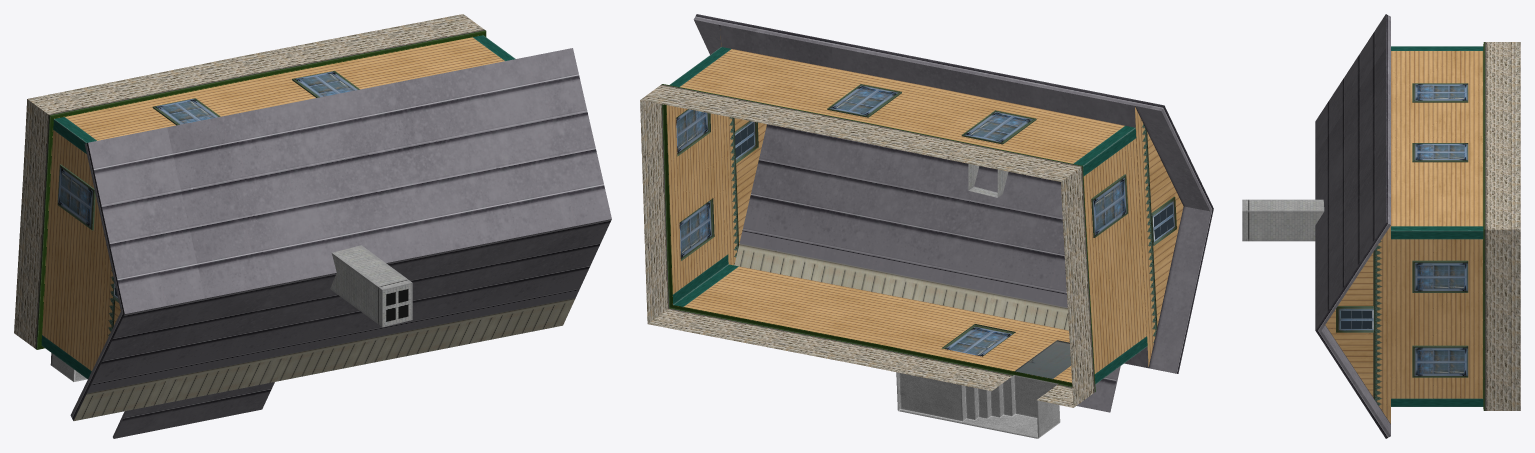
Rendered from 103_Toompuiestee_16_korvalhoone1.obj.
3 renders of one model, left to right at view 1: azimuth 30°, elevation 25°; view 2: azimuth 150°, elevation 25°; view 3: azimuth 270°, elevation 25°, orthographic. The views are drawn at different scales.
Visible parts, largest first — view 1: house01; view 2: house01; view 3: house01.
Boxes of the visible parts, x1,y1,x2,y2 form: house01: [14, 14, 611, 438]; house01: [640, 14, 1213, 438]; house01: [1242, 14, 1520, 438].
Size of the model in its own units: 15.18 by 9.42 by 9.15.
